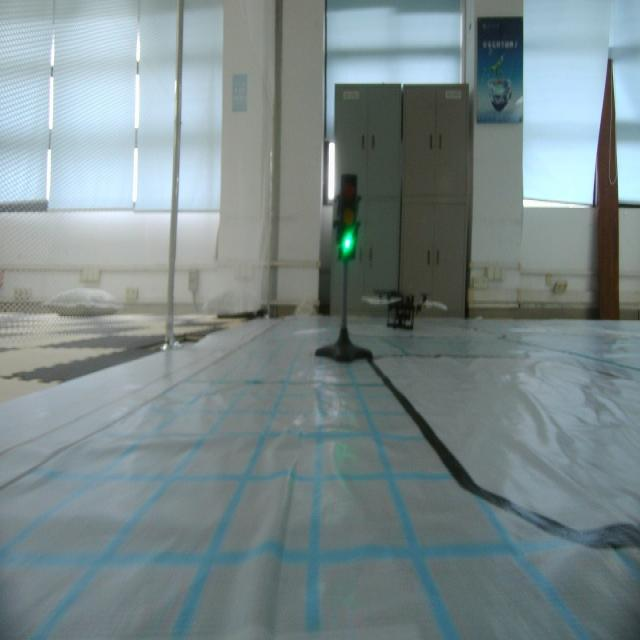green: (336, 176, 360, 264)
